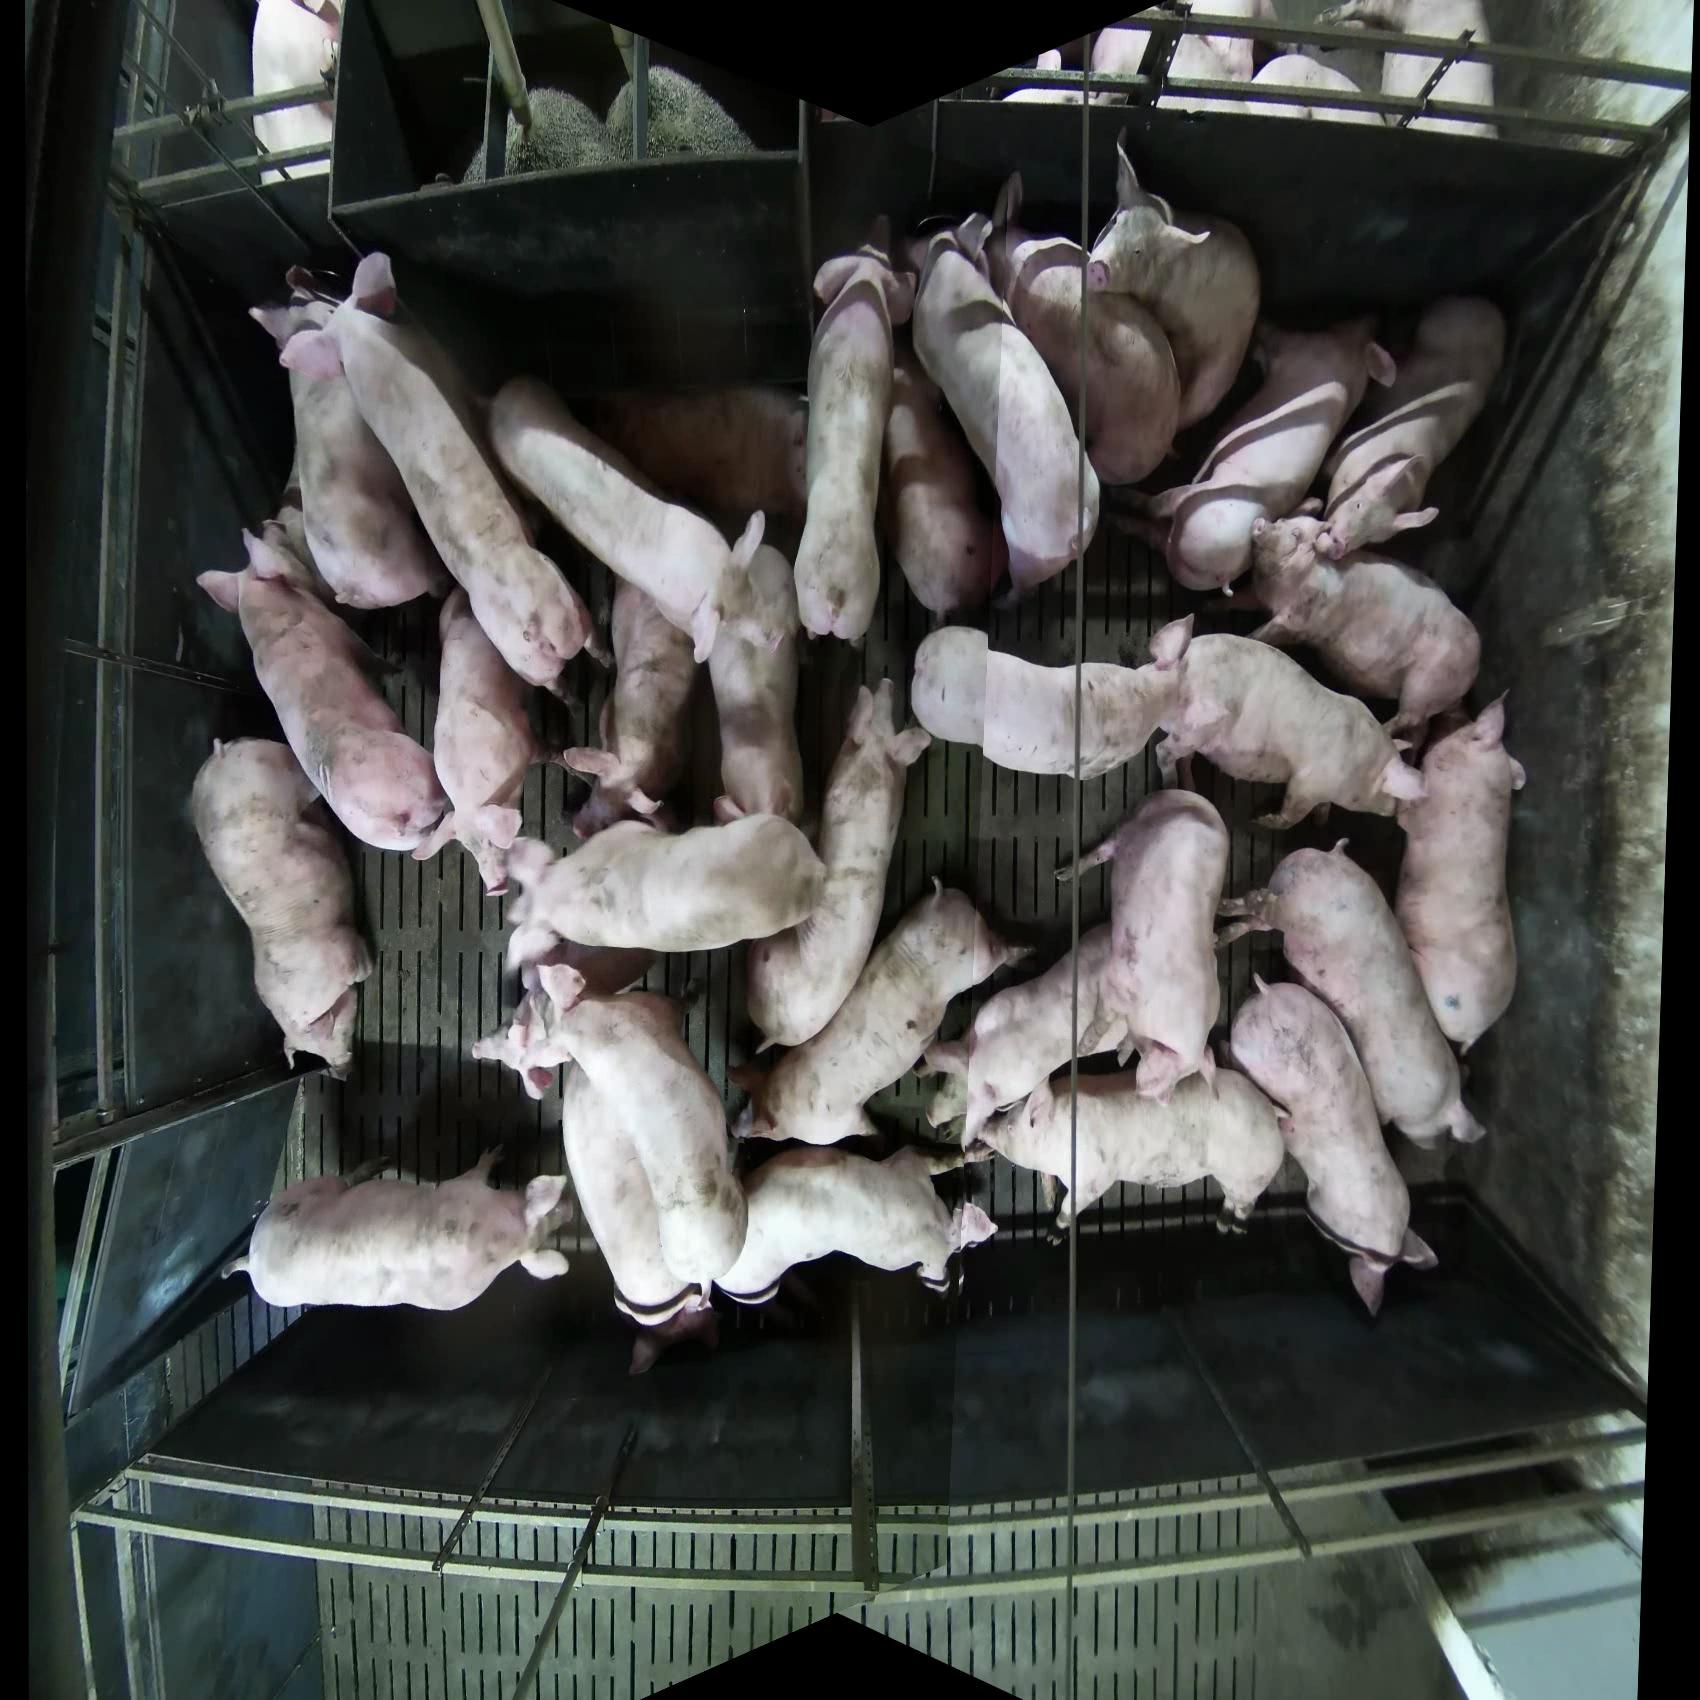pig: (294, 252, 596, 701), (472, 975, 749, 1376), (195, 520, 455, 856), (1216, 838, 1487, 1150), (729, 878, 1038, 1146), (487, 374, 761, 665), (908, 213, 1104, 609), (1138, 308, 1396, 598), (1228, 968, 1440, 1319), (743, 677, 933, 1052), (249, 280, 451, 610), (188, 736, 377, 1084), (1235, 512, 1484, 761), (1147, 618, 1428, 831), (224, 1143, 571, 1312), (498, 806, 830, 984), (1052, 788, 1231, 1105), (971, 1057, 1287, 1235), (1085, 126, 1263, 434), (1315, 293, 1509, 560), (1390, 688, 1529, 1055), (918, 923, 1129, 1158), (911, 612, 1197, 783), (718, 1143, 995, 1305), (792, 244, 901, 646), (413, 587, 550, 897), (557, 574, 701, 841), (704, 514, 806, 827), (1322, 2, 1499, 139)
